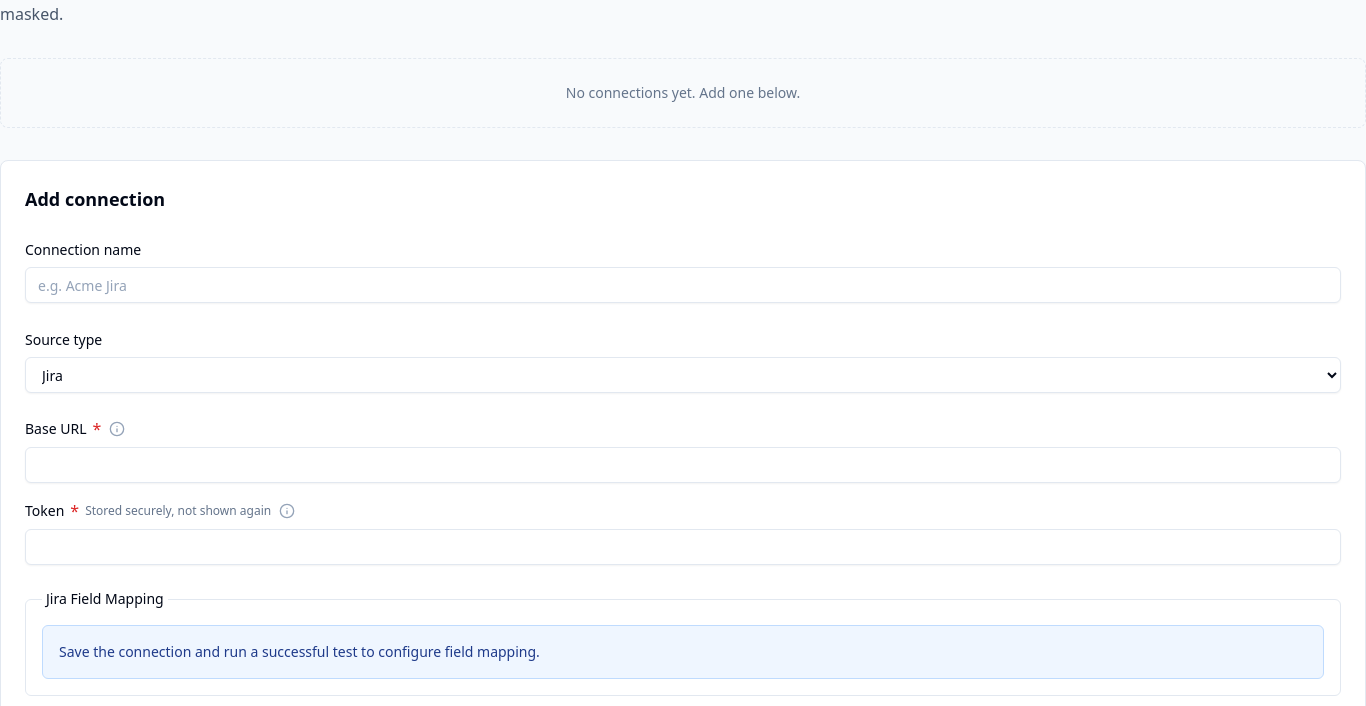
Test case: SourceConnectionsPage › renders a duplicate-name API error near the form
The image size is (1366, 706).
Check: the field labelled "Base URL" is shown, box [25, 447, 1341, 483]
Type "Duplicate" into the field labelled "Connection name".
click(683, 285); type("Duplicate")  # box [25, 267, 1341, 303]
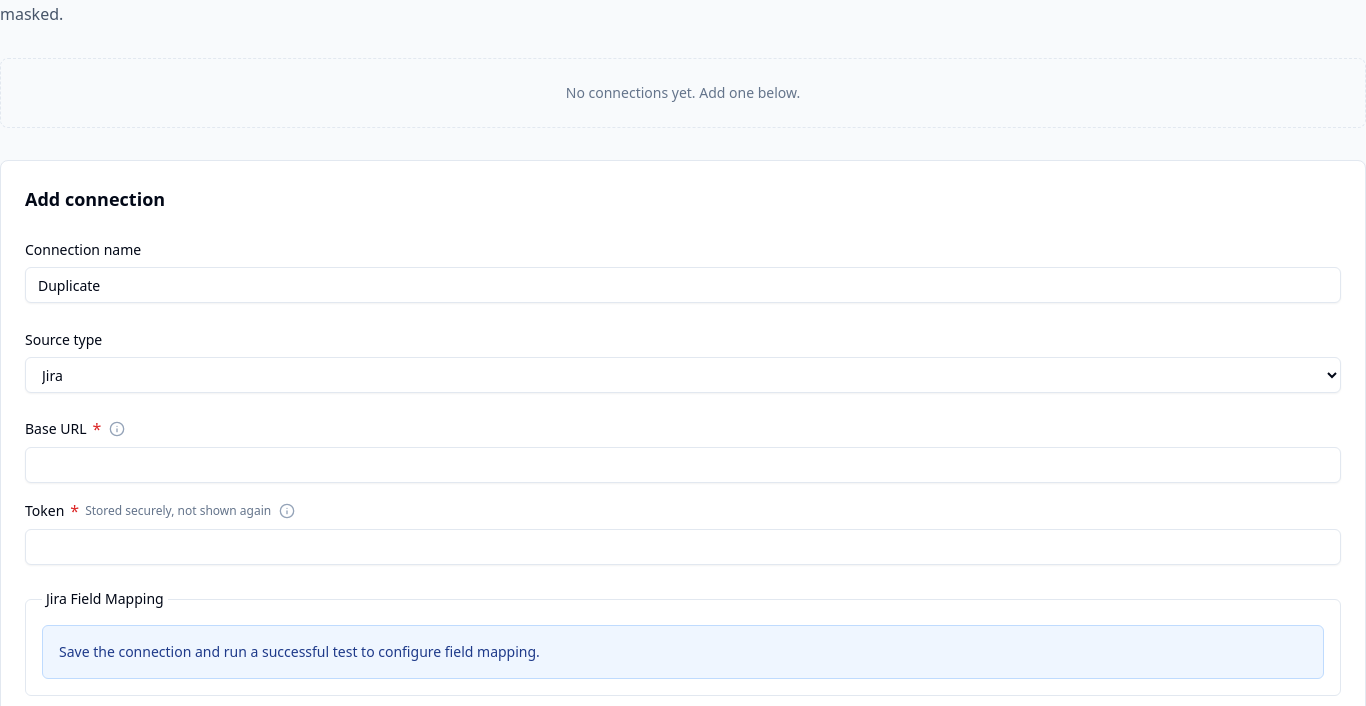
Type "https://demo.invalid" into the field labelled "Base URL".
click(683, 465); type("https://demo.invalid")  # box [25, 447, 1341, 483]
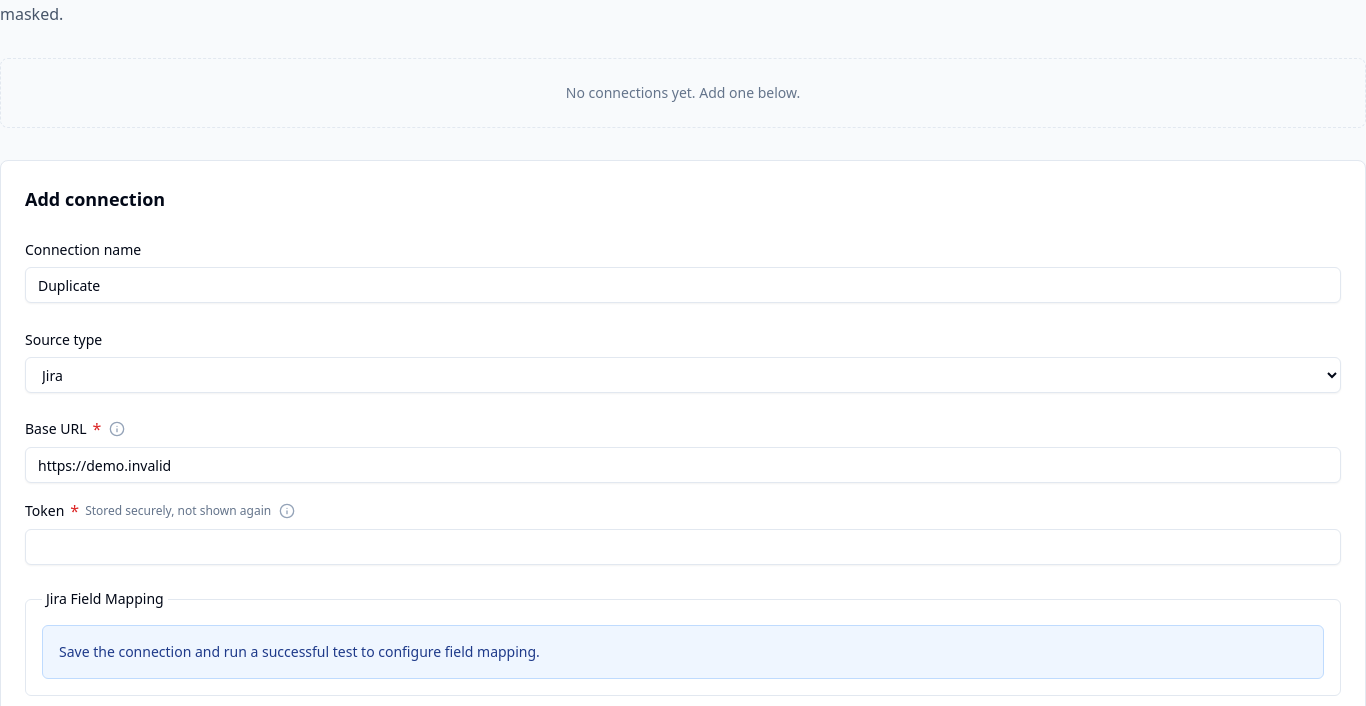
Type "tok" into the password field labelled "Token".
click(683, 547); type("tok")  # box [25, 529, 1341, 565]
(page scrolled)
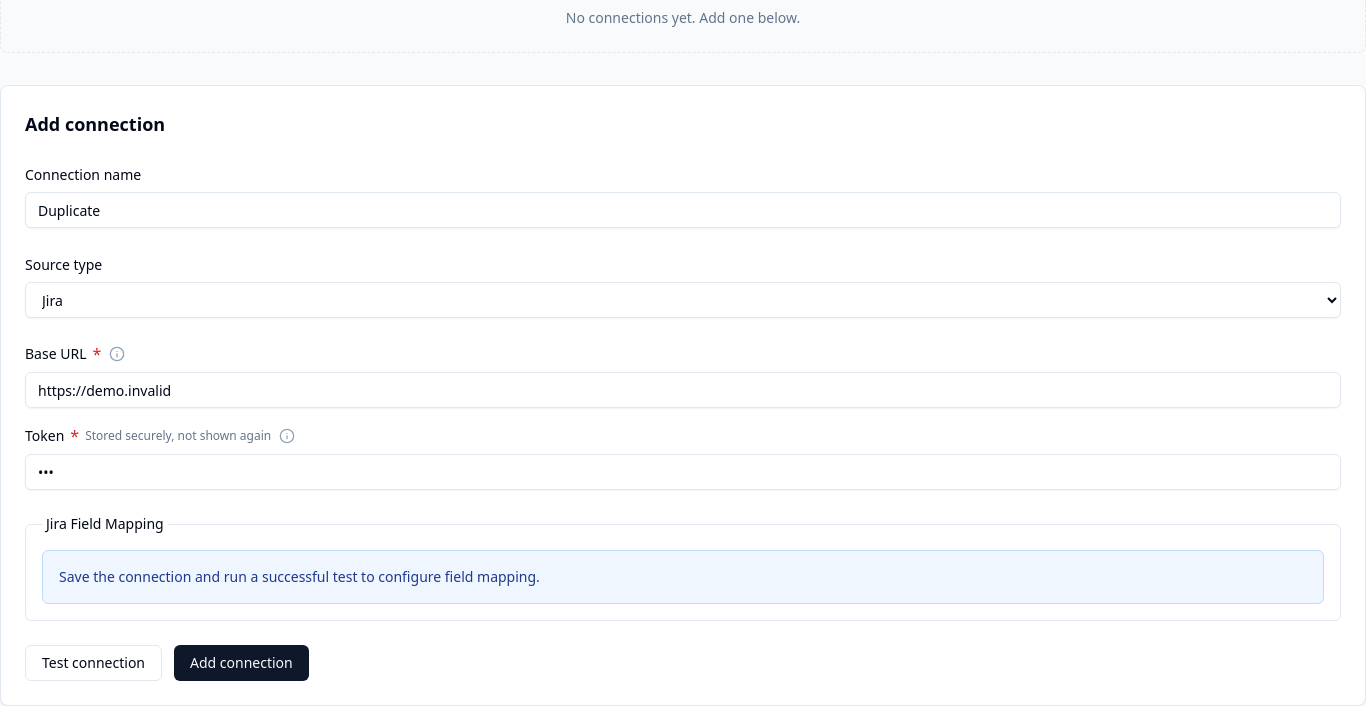
Click the button "Add connection".
click(241, 663)  # box [174, 645, 309, 681]
(page scrolled)
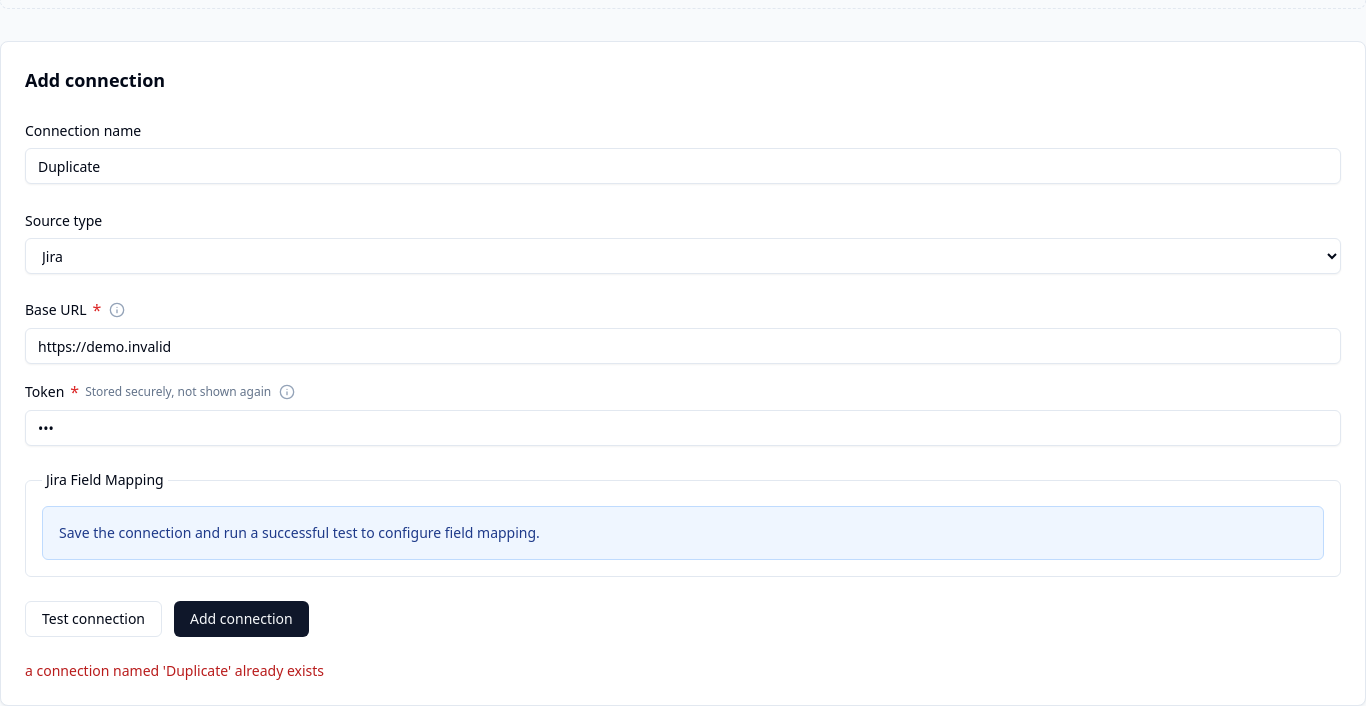
Check: the text "a connection named 'Duplicate' already exists" is shown, box [25, 661, 324, 680]
